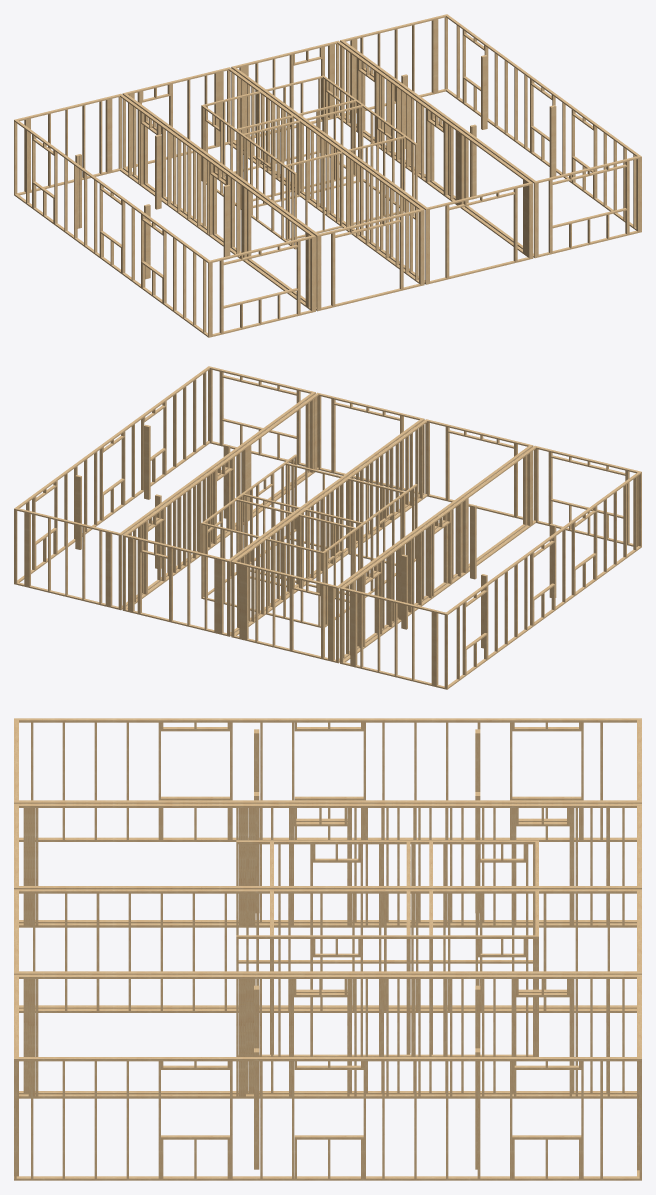
The model's file is Karkass_600.glb.
3 renders of one model, top to bottom at view 1: azimuth 30°, elevation 25°; view 2: azimuth 150°, elevation 25°; view 3: azimuth 270°, elevation 25°, orthographic. The views are drawn at different scales.
Visible parts, largest first — view 1: Post 45x95_297 (×14), Post 45x95_1796 (×2); view 2: Post 45x95_297 (×14), Post 45x95_1796 (×2); view 3: Post 45x95_297 (×16), Post 45x95_1796, Post 45x95_1844 (×4), Post 45x95_274.
Part boxes in pixels (x1=…): Post 45x95_297 (×14): x1=14, y1=14, x2=641, y2=337; Post 45x95_1796 (×2): x1=227, y1=70, x2=418, y2=279; Post 45x95_297 (×14): x1=14, y1=366, x2=641, y2=689; Post 45x95_1796 (×2): x1=227, y1=425, x2=422, y2=636; Post 45x95_297 (×16): x1=14, y1=718, x2=641, y2=1180; Post 45x95_1796: x1=33, y1=893, x2=609, y2=1010; Post 45x95_1844 (×4): x1=236, y1=840, x2=535, y2=1056; Post 45x95_274: x1=254, y1=1051, x2=259, y2=1169.
Bounding box in the file's own units: 15.15 × 2.52 × 11.8.
1 material, 1 textured.
